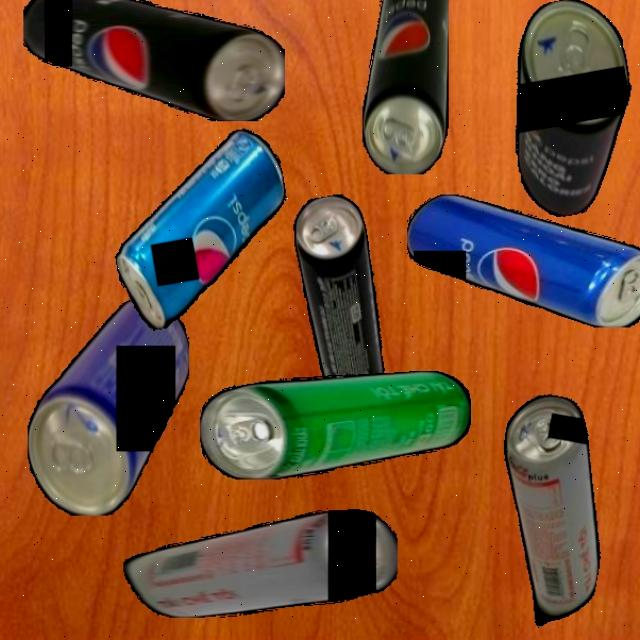debris: (98, 124, 305, 334), (474, 389, 626, 635), (27, 296, 189, 516), (492, 0, 640, 222), (22, 0, 285, 121), (407, 194, 640, 328), (122, 509, 398, 618), (200, 370, 471, 479), (288, 192, 396, 410), (361, 0, 448, 174)
